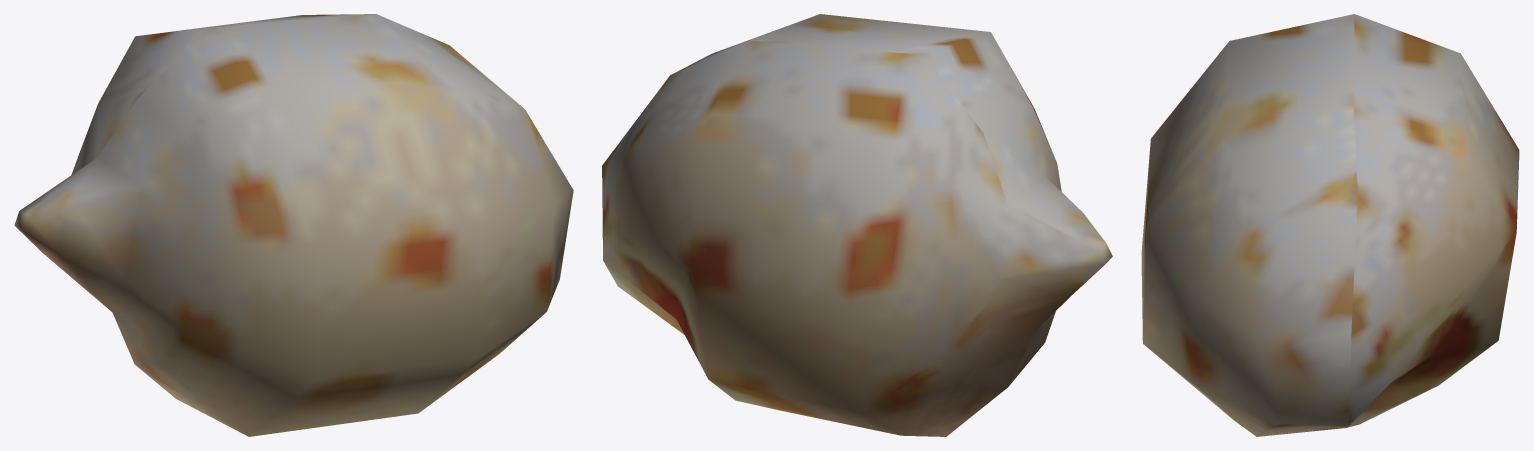
The model's file is 5010_Item_hailuo_11.FBX.
3 views of the same model, side by side, from view 1: azimuth 30°, elevation 25°; view 2: azimuth 150°, elevation 25°; view 3: azimuth 270°, elevation 25° (orthographic). The views are drawn at different scales.
Parts seen in each view (by area): view 1: 5010_Item_hailuo_11; view 2: 5010_Item_hailuo_11; view 3: 5010_Item_hailuo_11.
Boxes of the visible parts, box(x1,y1,x2,y2) form: 5010_Item_hailuo_11: box(14, 14, 573, 436); 5010_Item_hailuo_11: box(602, 14, 1112, 436); 5010_Item_hailuo_11: box(1141, 14, 1519, 436).
Size of the model in its own units: 62.01 by 44.25 by 43.61.
